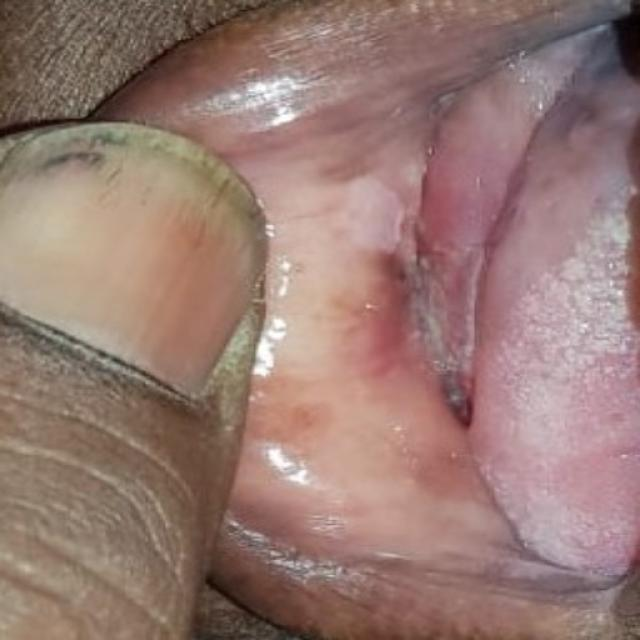leukoplakia-detection: (324, 101, 513, 456)
processing_area: (234, 23, 639, 582)
